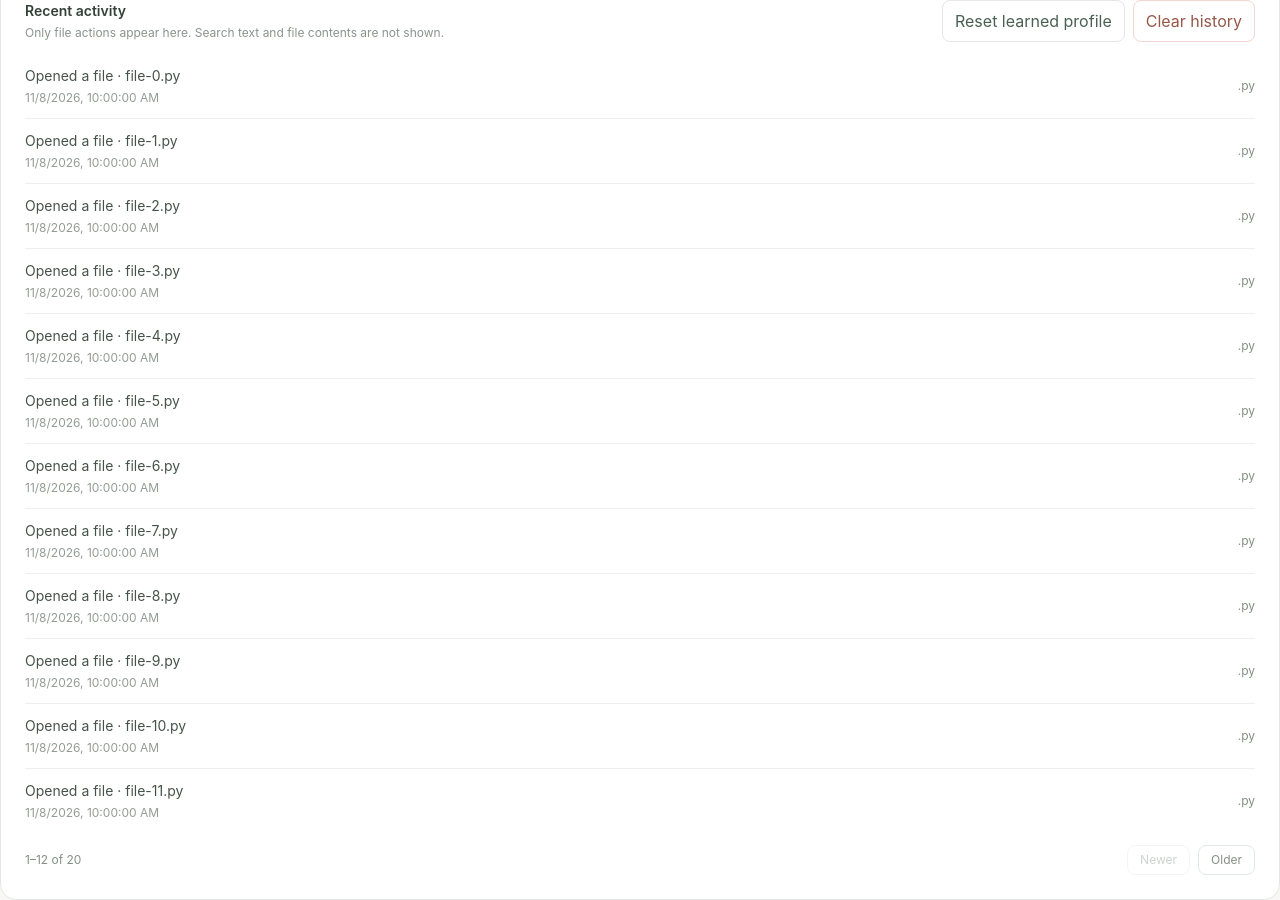
PersonalizationSettings › pages through recent activity
(page scrolled)
Check: the text "1–12 of 20" is shown, box [25, 852, 81, 868]
Click the button "Older" at (1226, 860), box [1198, 845, 1255, 875]
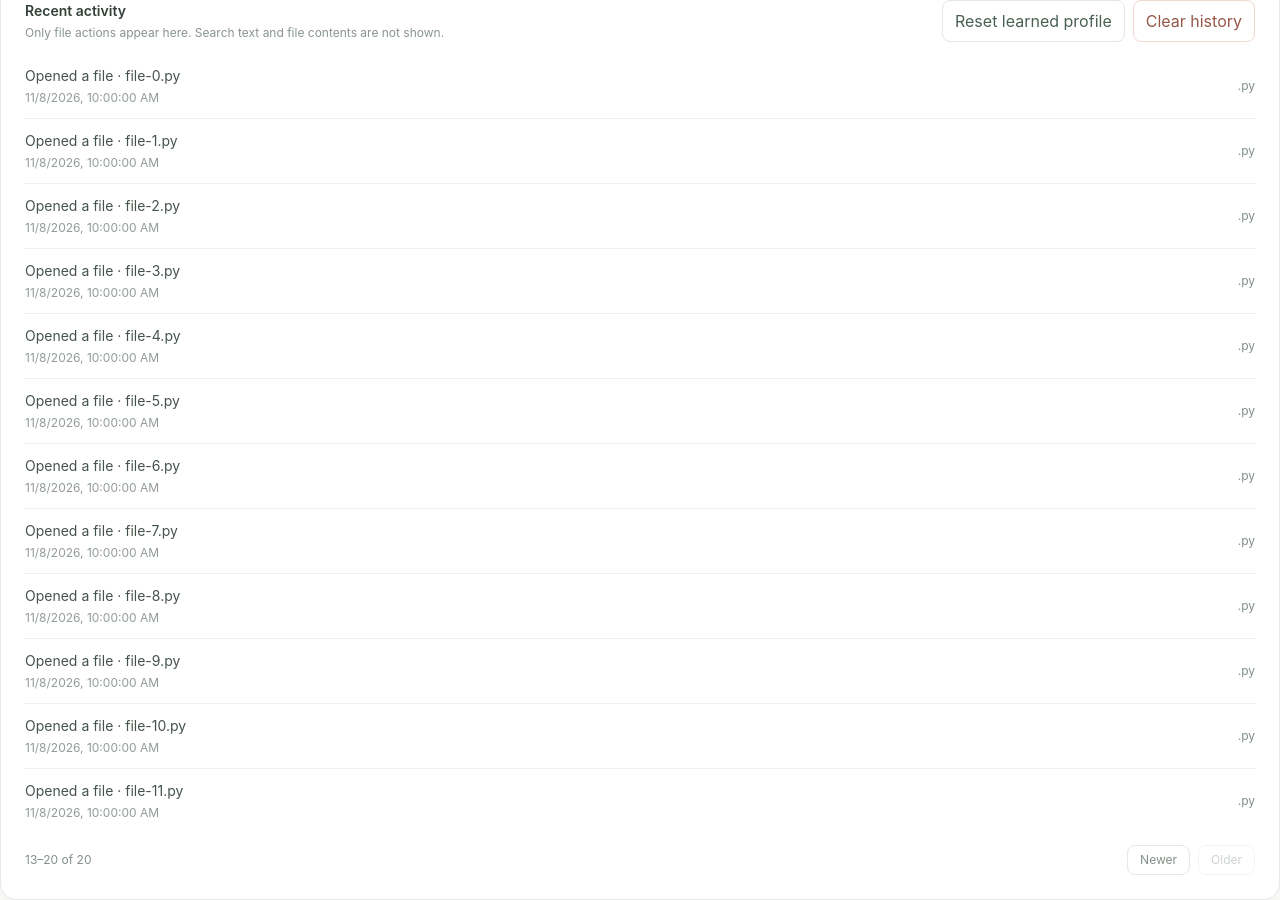
Check: the text "13–20 of 20" is shown, box [25, 852, 92, 868]
